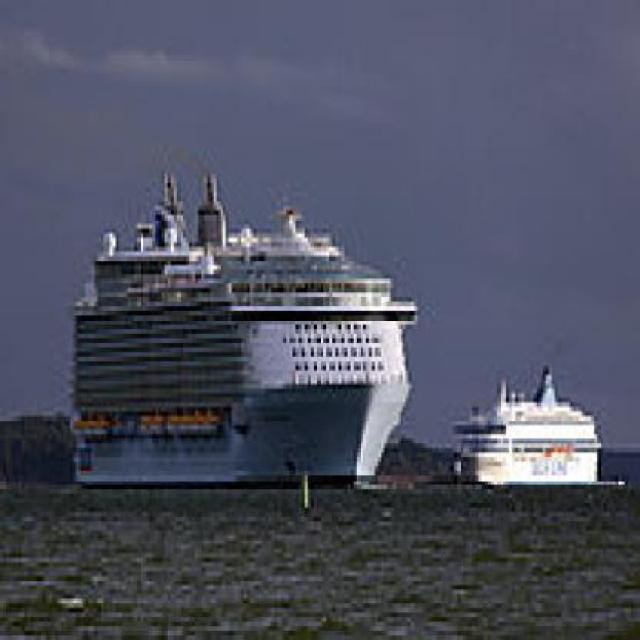cruise: (49, 161, 431, 504), (440, 354, 614, 514)
